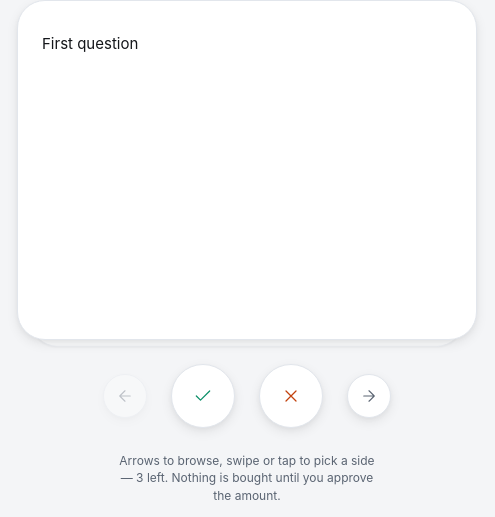
Test case: SwipeDeck › back returns to the previous market, and does not pick a side either
The width and height of the screenshot is (495, 517).
Click the 4th button named "Next market".
click(369, 396)  # box [347, 374, 391, 418]
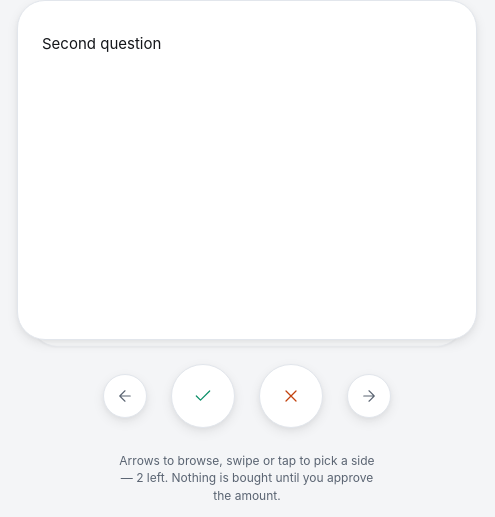
Expected: the text "Second question" is shown, [42, 34, 161, 53]
Click the 1st button named "Previous market".
click(125, 396)  # box [103, 374, 147, 418]
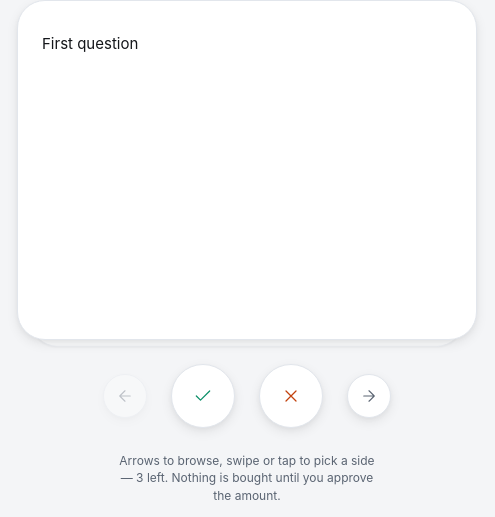
Expected: the text "First question" is shown, [42, 34, 138, 53]
